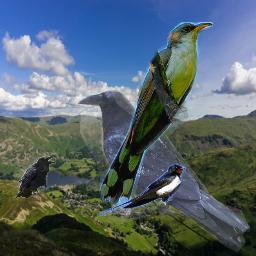Crow: (76, 88, 250, 252), (13, 156, 56, 200)
Cuckoo: (100, 22, 213, 206)
Swallow: (98, 164, 186, 216)
